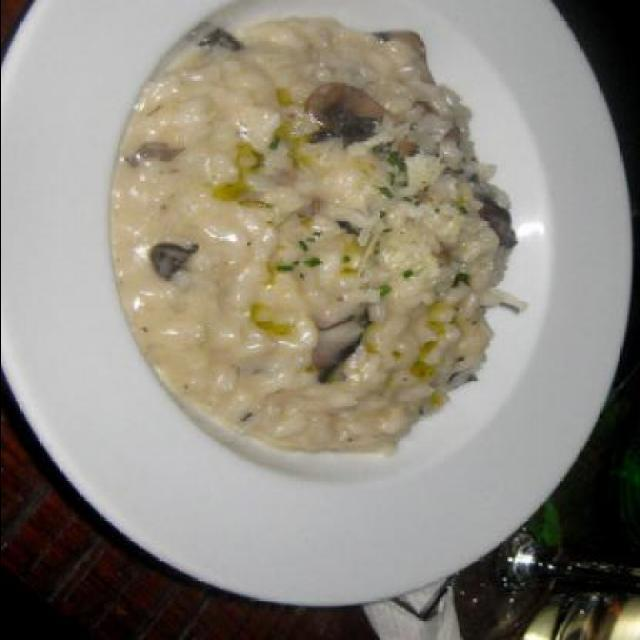Risotto: (130, 33, 504, 436)
